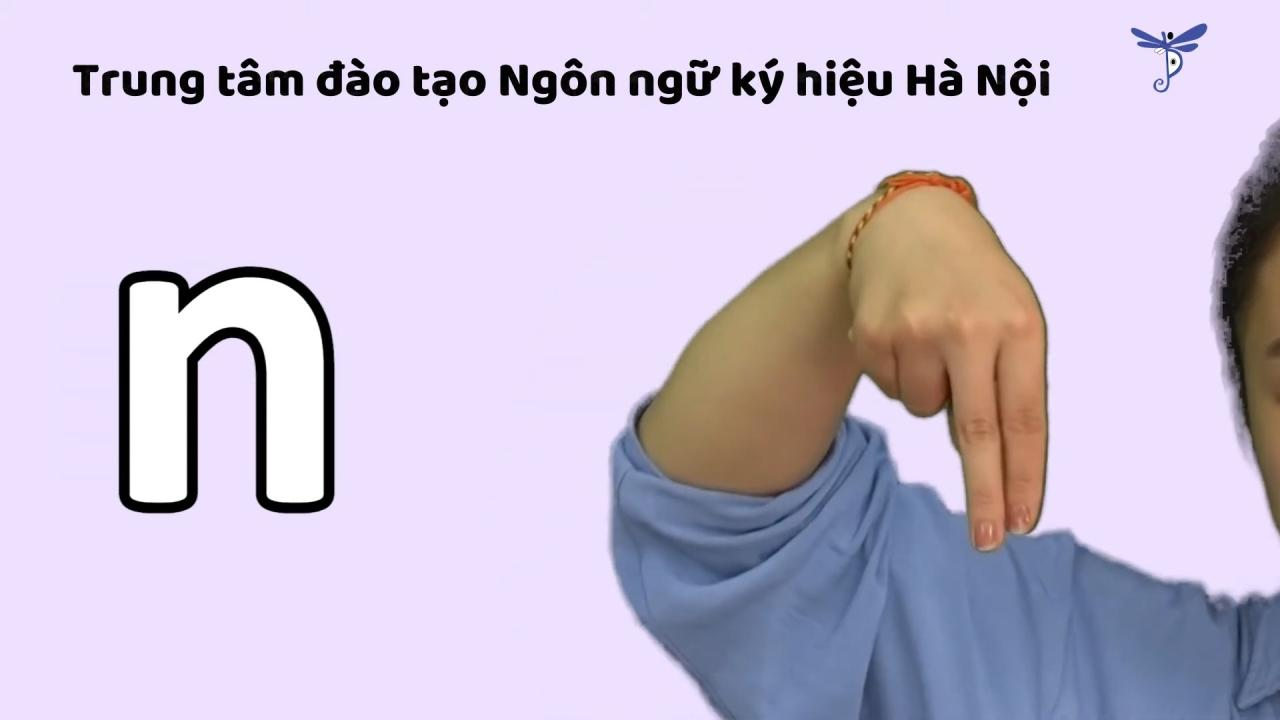N: (849, 190, 1069, 566)
